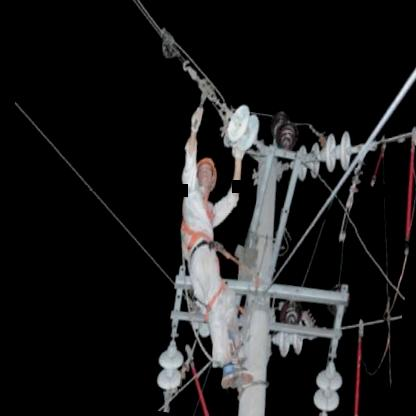helmet: (187, 146, 221, 200)
